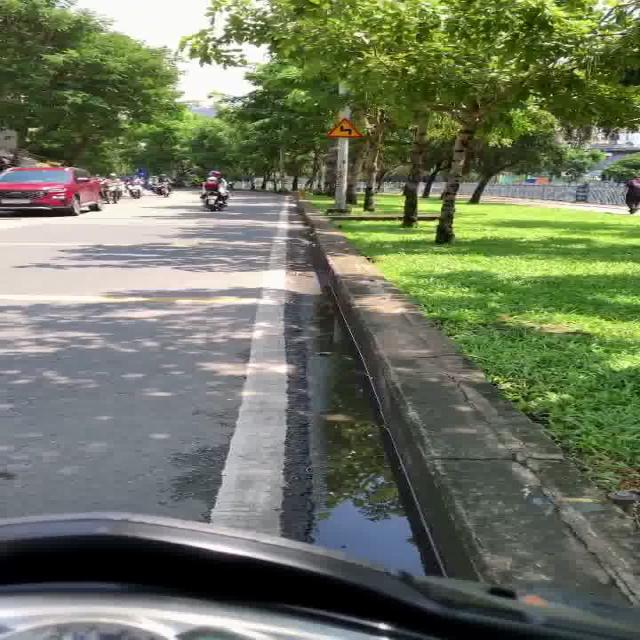Bien bao nhieu cho ngoat nguy hiem lien tiep: (323, 113, 368, 140)
